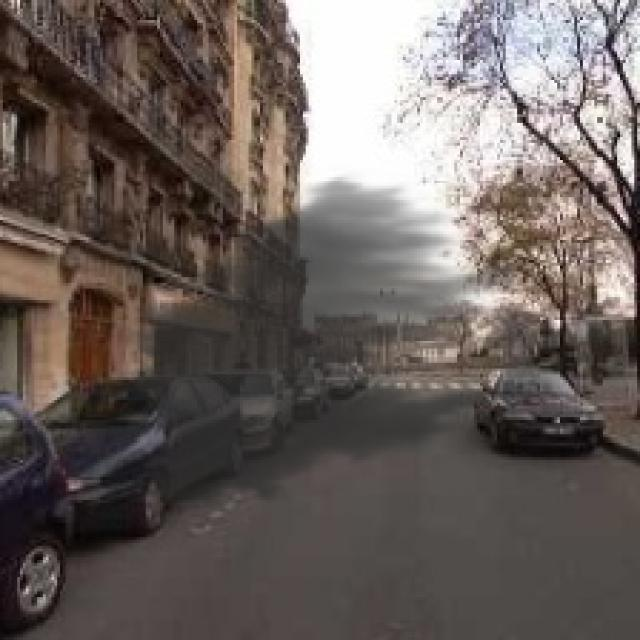Smoke: (108, 166, 514, 528)
